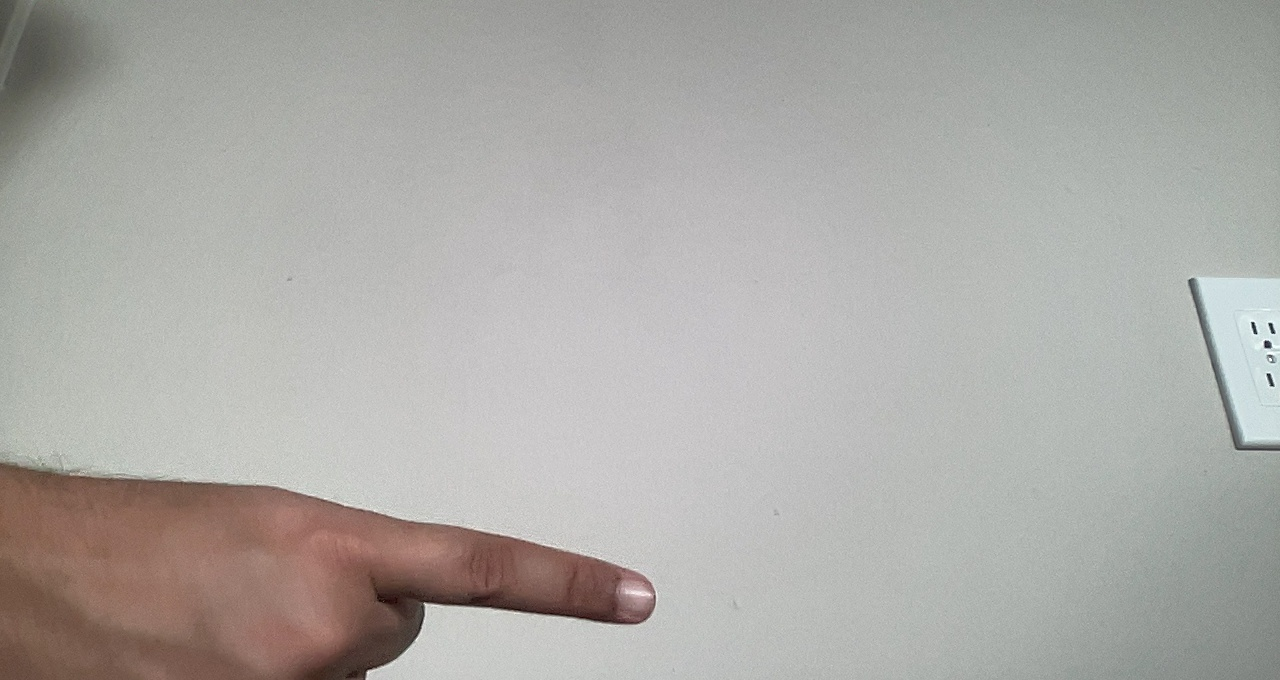fingerleft: (29, 461, 659, 680)
